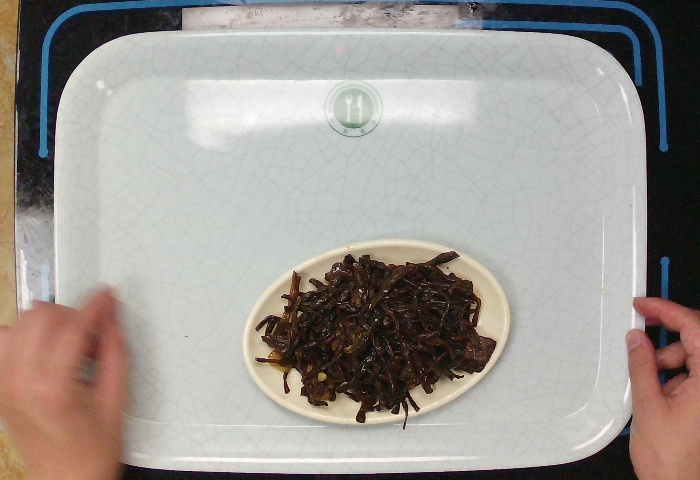JYsf-Tuo_Yuan_Wan: (238, 234, 516, 431)
